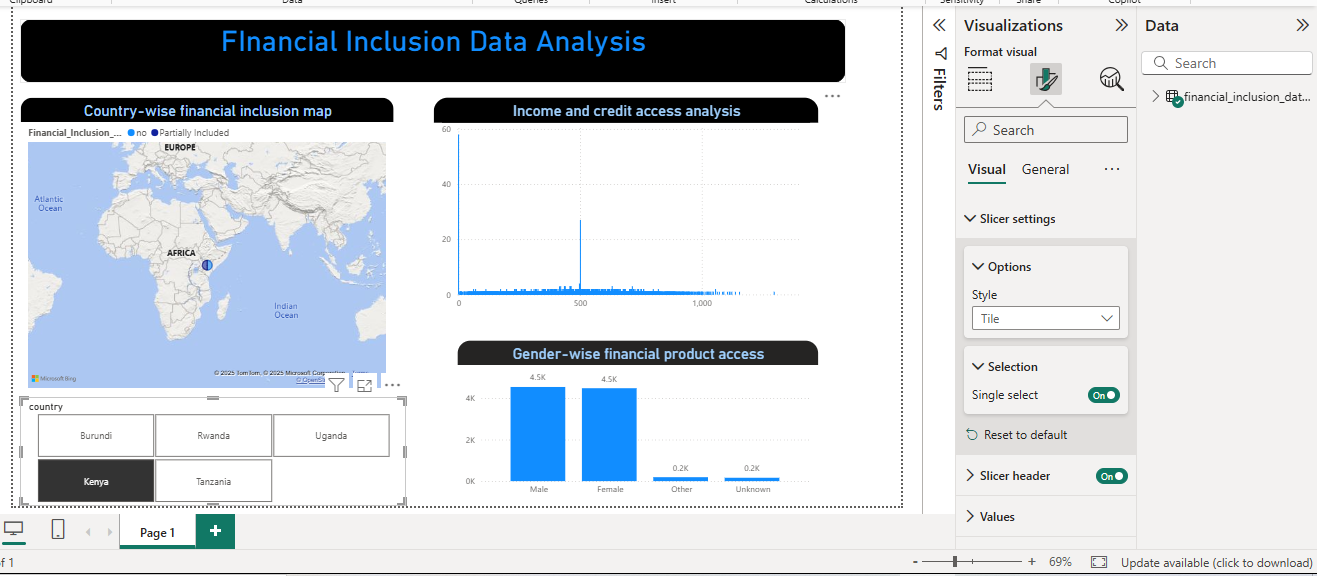

Layout of this report page (visuals, bound fields, positions):
{"tool":"powerbi","page":{"name":"Page 1","canvas":[1280,720],"ordinal":0},"visuals":[{"type":"map","title":"o\tCountry-wise financial inclusion map","fields":{"Category":["financial_inclusion_dataset_new.country"],"Series":["financial_inclusion_dataset_new.Financial_Inclusion_Status"]},"box":[10.1,131,539.2,431.7],"z":0},{"type":"columnChart","title":"Income and credit access analysis","fields":{"Category":["financial_inclusion_dataset_new.monthly_income"],"Y":["CountNonNull(financial_inclusion_dataset_new.loan_access)"]},"box":[604.7,131,556,322.5],"z":1000},{"type":"columnChart","title":"Gender-wise financial product access","fields":{"Y":["CountNonNull(financial_inclusion_dataset_new.mobile_money_user)"],"Category":["financial_inclusion_dataset_new.gender"]},"box":[640,480.4,520.7,240.2],"z":2000},{"type":"slicer","fields":{"Values":["financial_inclusion_dataset_new.country"]},"box":[10.1,562.7,556,157.9],"z":3000},{"type":"textbox","title":"FInancial Inclusion Data Analysis","box":[10.1,18.5,1189.3,92.4],"z":3001}]}

Visuals, with their boxes in screenshot pixels (x1, y1, x2, y2):
"o	Country-wise financial inclusion map" map: [left=11, top=107, right=437, bottom=448]
"Income and credit access analysis" columnChart: [left=481, top=107, right=919, bottom=361]
"Gender-wise financial product access" columnChart: [left=509, top=383, right=919, bottom=572]
slicer - financial_inclusion_dataset_new.country: [left=11, top=448, right=450, bottom=572]
"FInancial Inclusion Data Analysis" textbox: [left=11, top=18, right=950, bottom=91]
